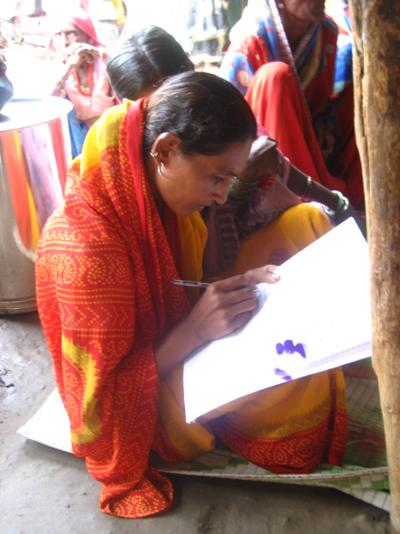person: (37, 73, 338, 468)
